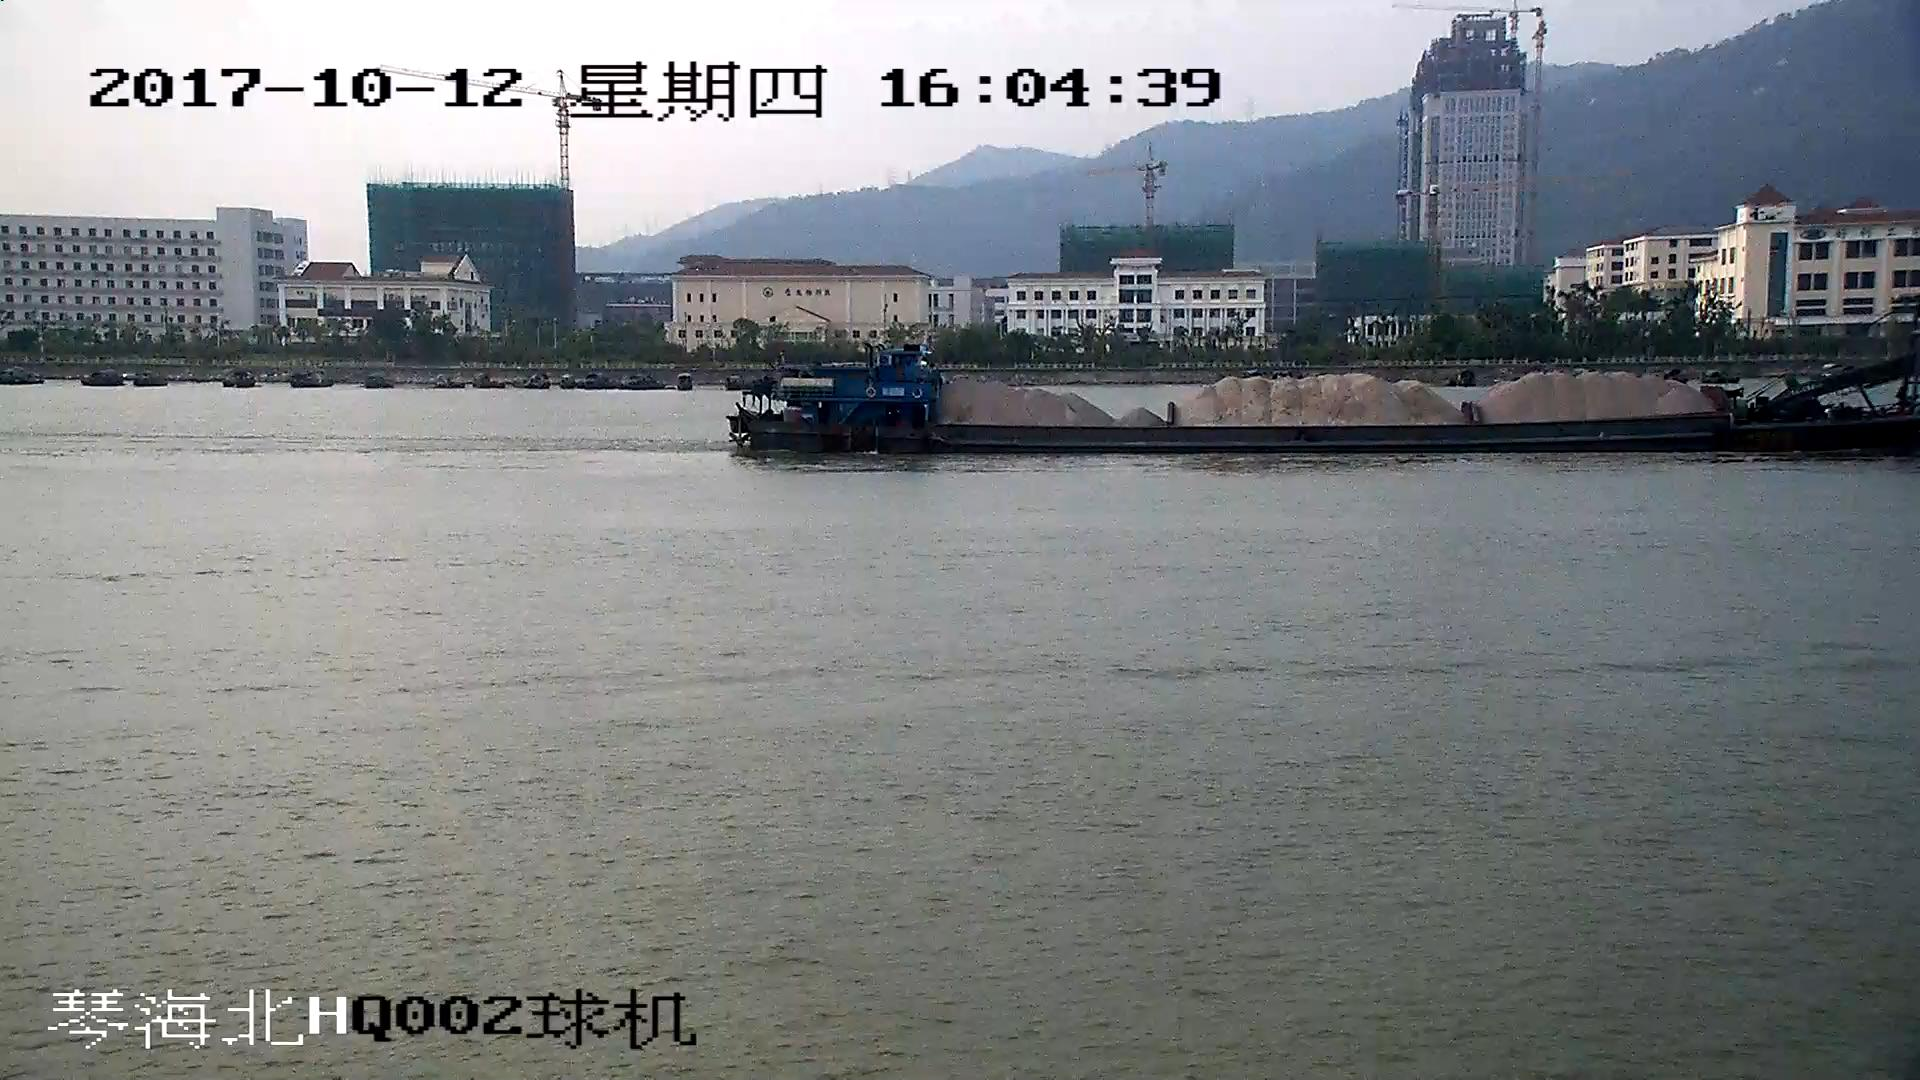ore carrier: (725, 348, 1920, 454)
